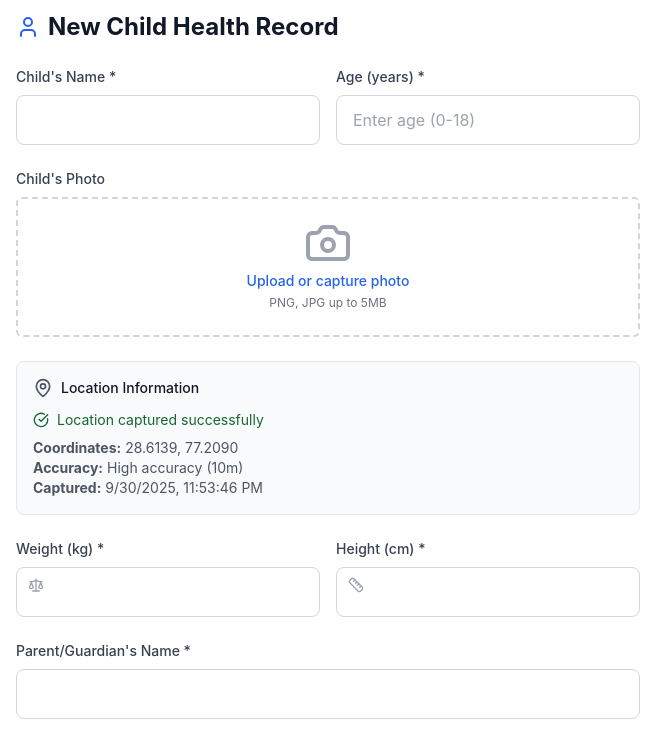
Test case: ChildForm › should only allow numeric input for age field
The width and height of the screenshot is (659, 745).
Type "abc12def" into the number field labelled "Age (years) *" at [488, 120], box [336,95,640,145]
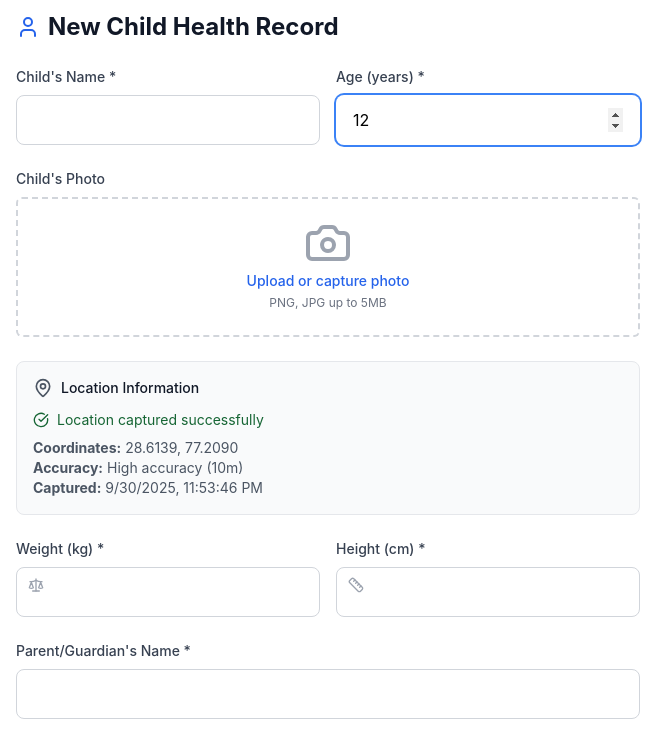
Expected: the number field labelled "Age (years) *" holds "12", [336,95,640,145]
